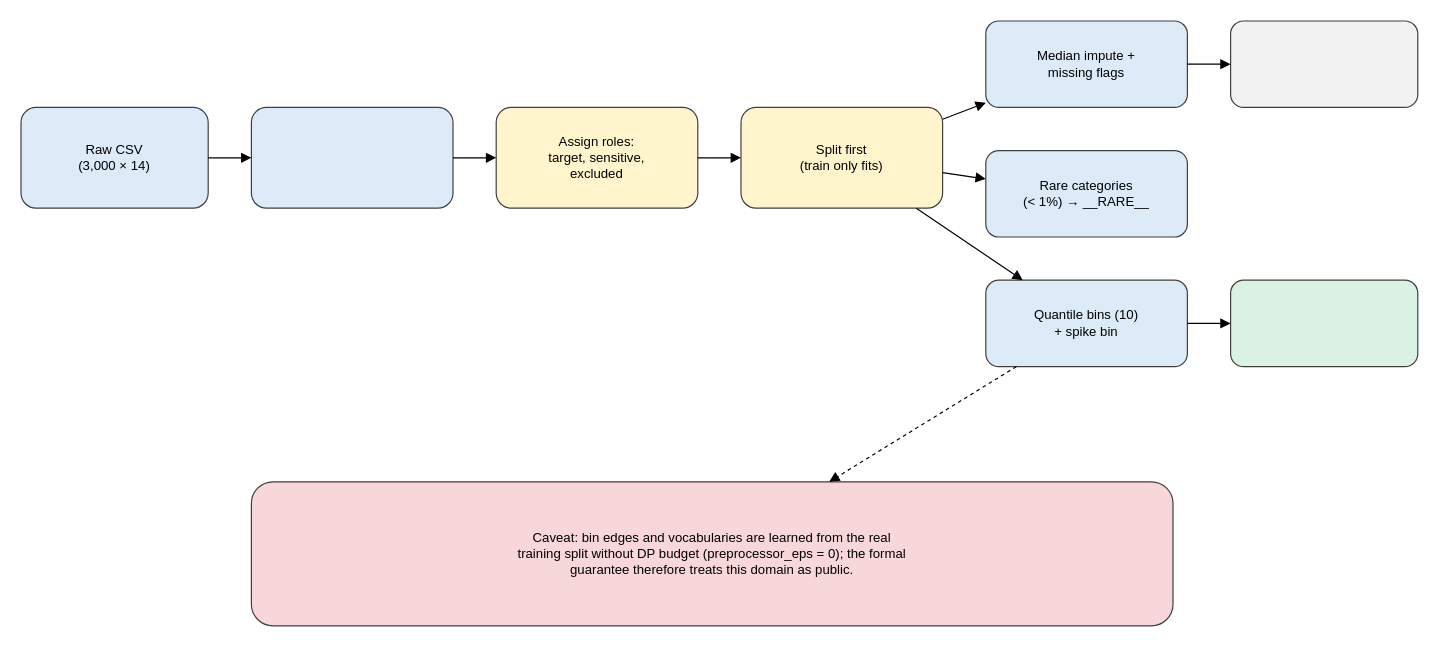
Image size: 1439x647. Some labels were removed from this diagram. Each missing label, with the centre of its shape:
Continuous → CTGAN / TVAE: (x=1323, y=63)
Discretised → DP methods: (x=1323, y=323)
Profile: types, cardinality, missing: (x=351, y=157)
